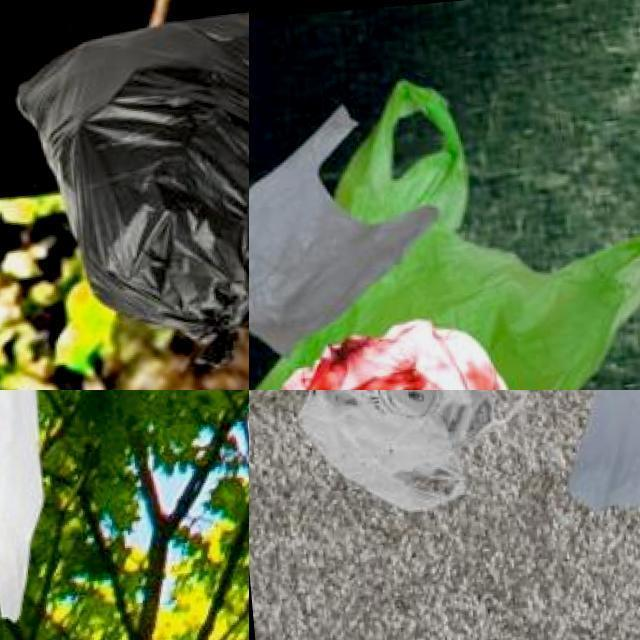waste: (249, 68, 640, 390), (9, 3, 249, 363), (249, 100, 445, 347), (301, 390, 532, 508), (0, 390, 57, 639), (551, 390, 640, 510)
